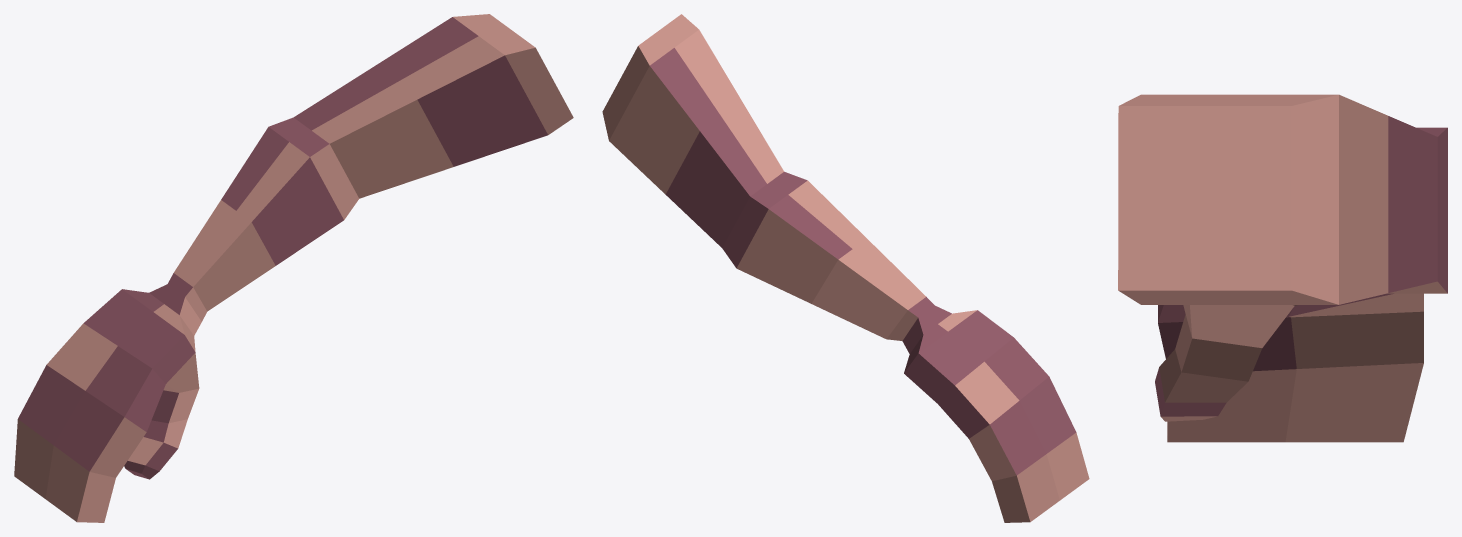
Rendered from BraçoDireito.fbx.
3 renders of one model, left to right at view 1: azimuth 30°, elevation 25°; view 2: azimuth 150°, elevation 25°; view 3: azimuth 270°, elevation 25°, orthographic. The views are drawn at different scales.
Visible parts, largest first — view 1: BMumiaDireito.001; view 2: BMumiaDireito.001; view 3: BMumiaDireito.001.
Part boxes in pixels (x1,y1,x2,y2): BMumiaDireito.001: (14, 14, 573, 522); BMumiaDireito.001: (602, 14, 1089, 522); BMumiaDireito.001: (1118, 94, 1447, 442).
Size of the model in its own units: 0.4696 by 0.3549 by 0.147.
